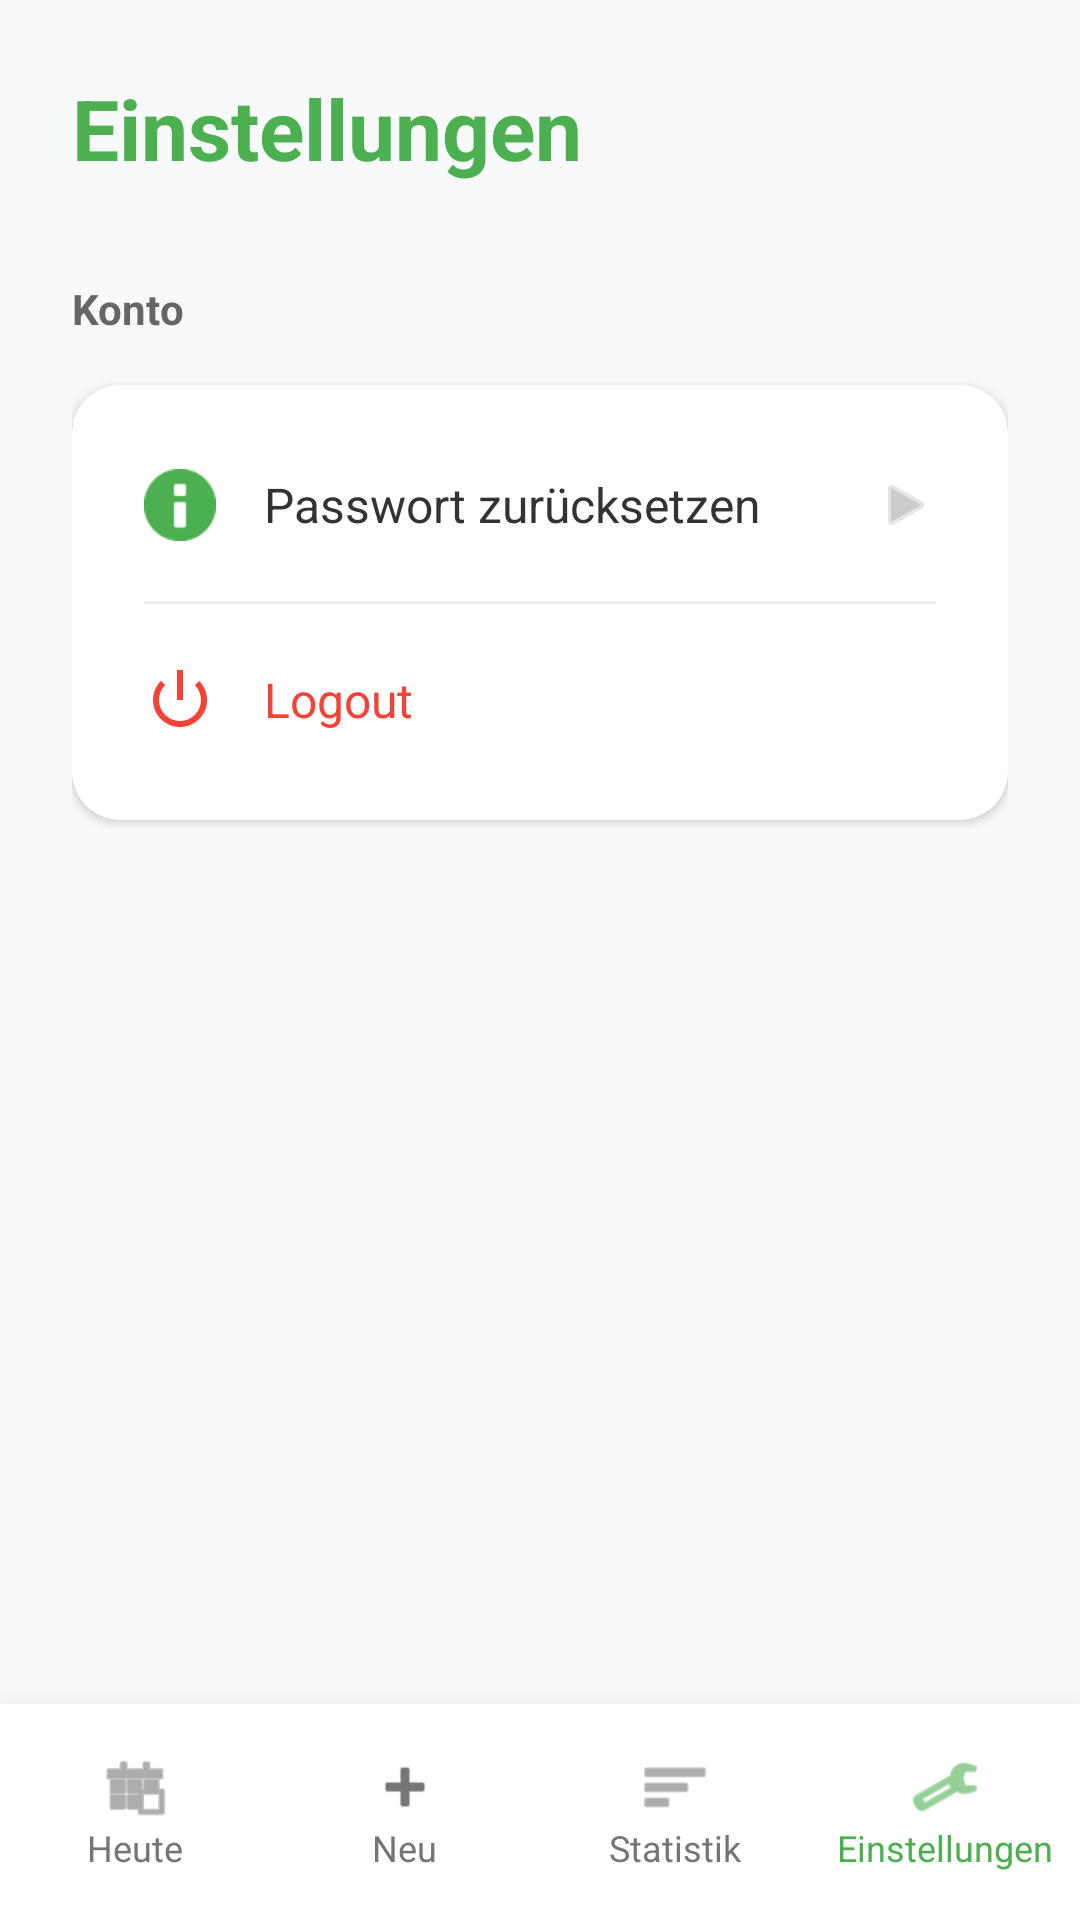

Screen size 1080×1920. Icon name, then its center in pixels as point (x, y):
add: point (405, 1787)
info: point (180, 505)
lock power off: point (180, 698)
manage: point (945, 1787)
play: point (906, 505)
sort by size: point (675, 1787)
